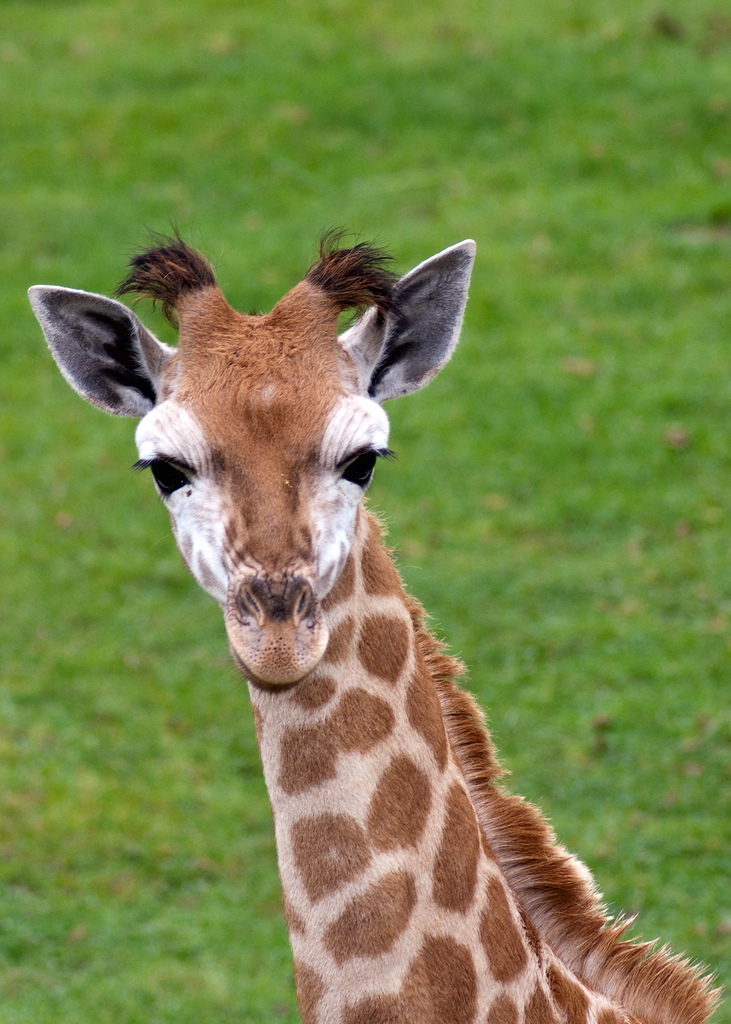giraffe: (63, 238, 681, 1018)
